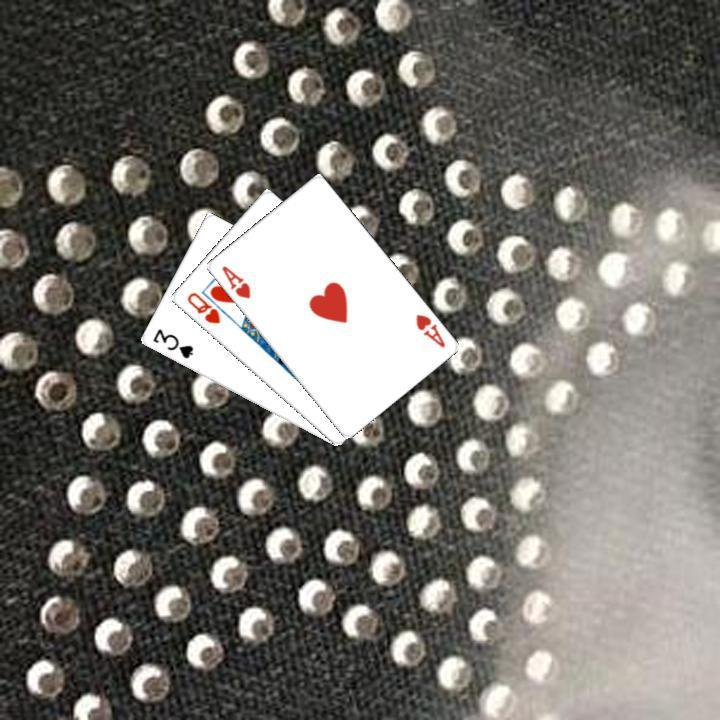3: (148, 324, 195, 361)
A: (411, 310, 447, 350), (217, 261, 252, 301)
Q: (182, 288, 222, 326)
